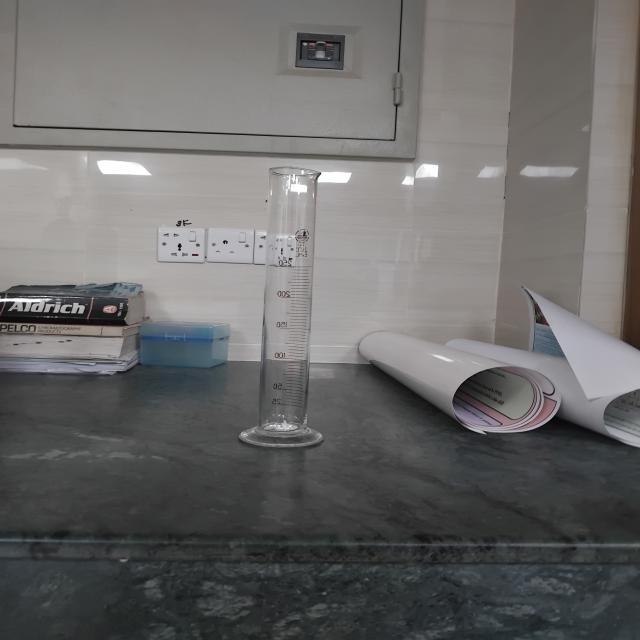Measuring_Cylinder: (179, 112, 382, 484)
